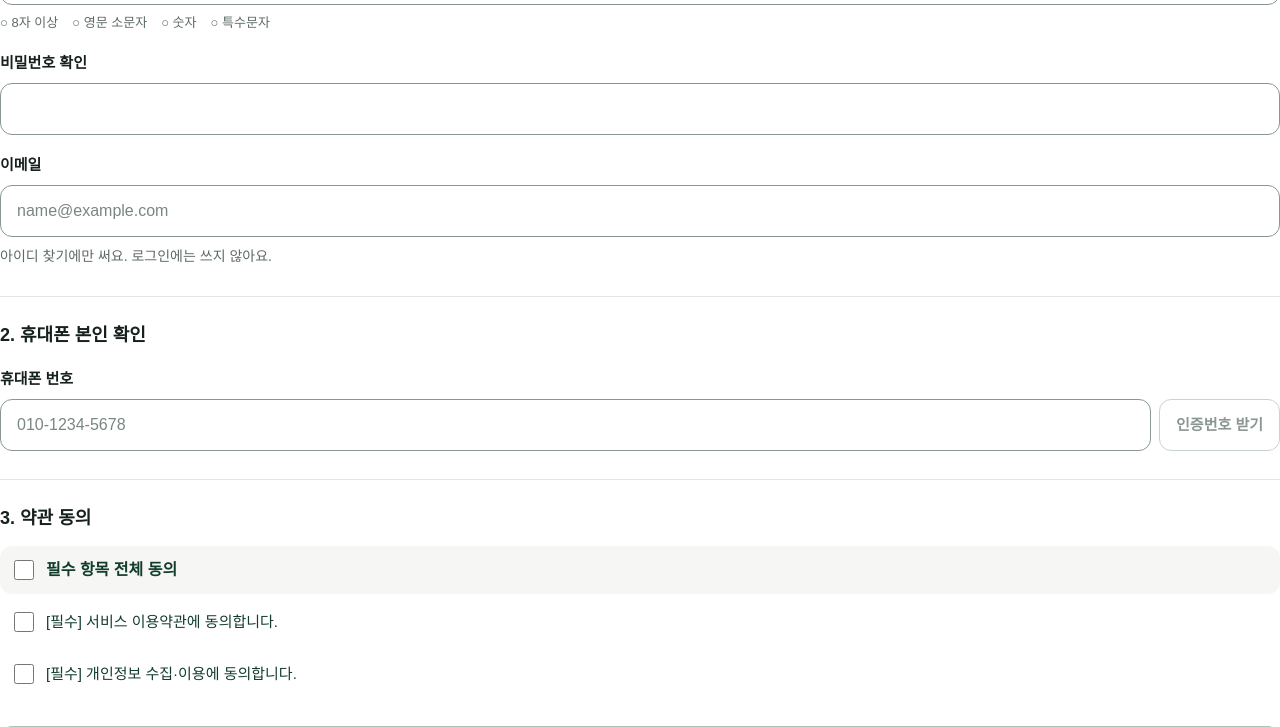
Scenario: PasswordSignupForm › 인증 뒤 휴대폰 번호를 바꾸면 인증 상태를 즉시 무효화한다
The width and height of the screenshot is (1280, 727).
(page scrolled)
Type "01012345678" into the field labelled "휴대폰 번호" at [576, 425], box [17,413,1134,437]
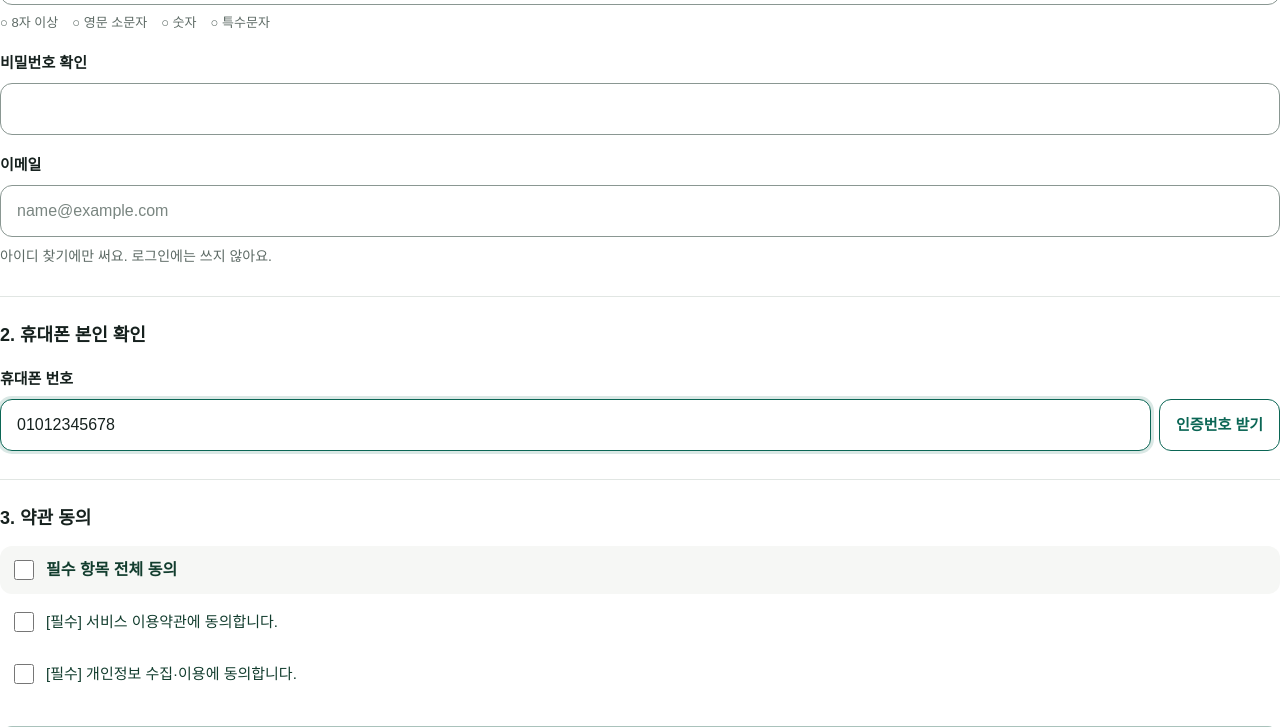
Click the button "인증번호 받기" at [1220, 425], box [1159,399,1279,451]
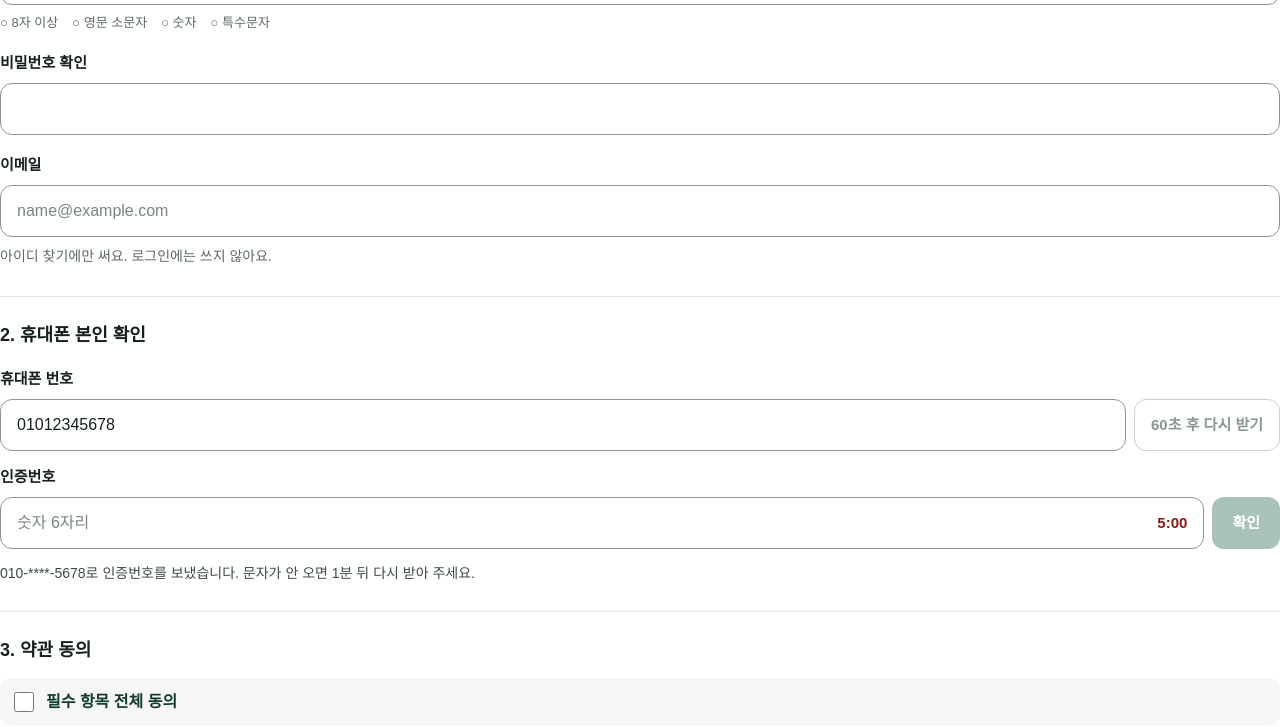
Type "123456" into the field labelled "인증번호" at [587, 523], box [17,511,1157,535]
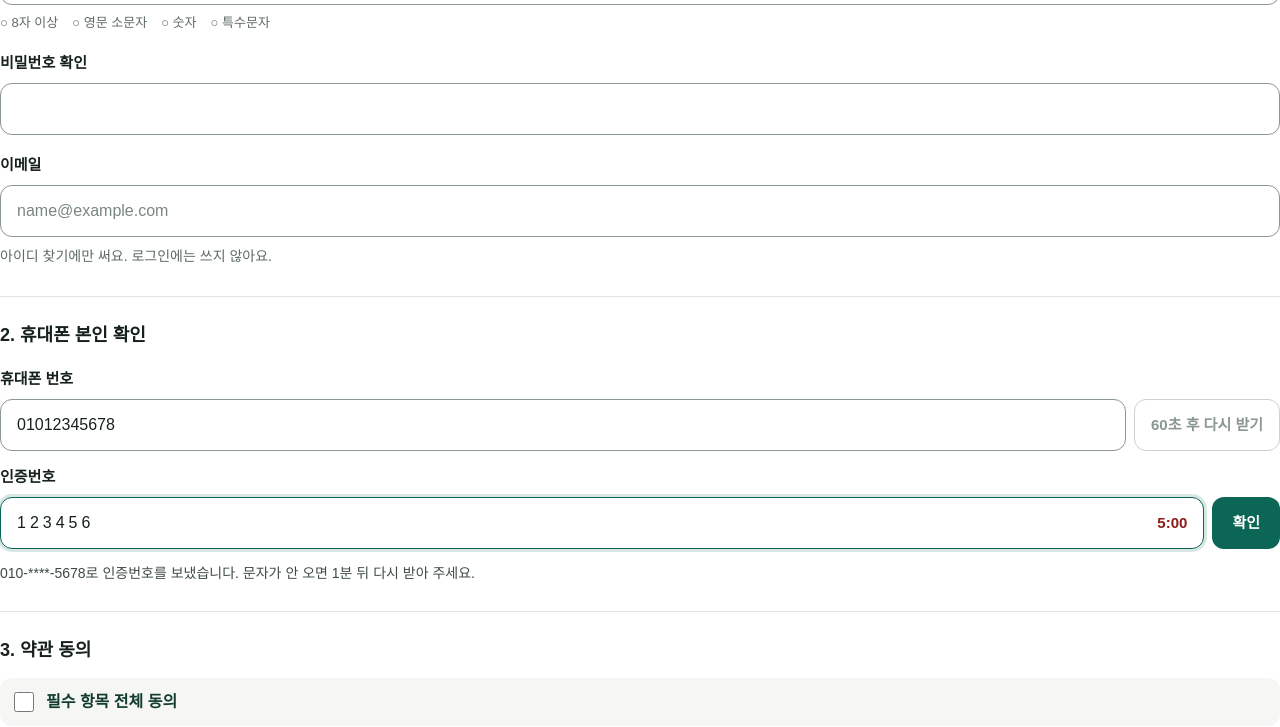
Click the button with aria-label "인증 확인" at [1246, 523], box [1212,497,1279,549]
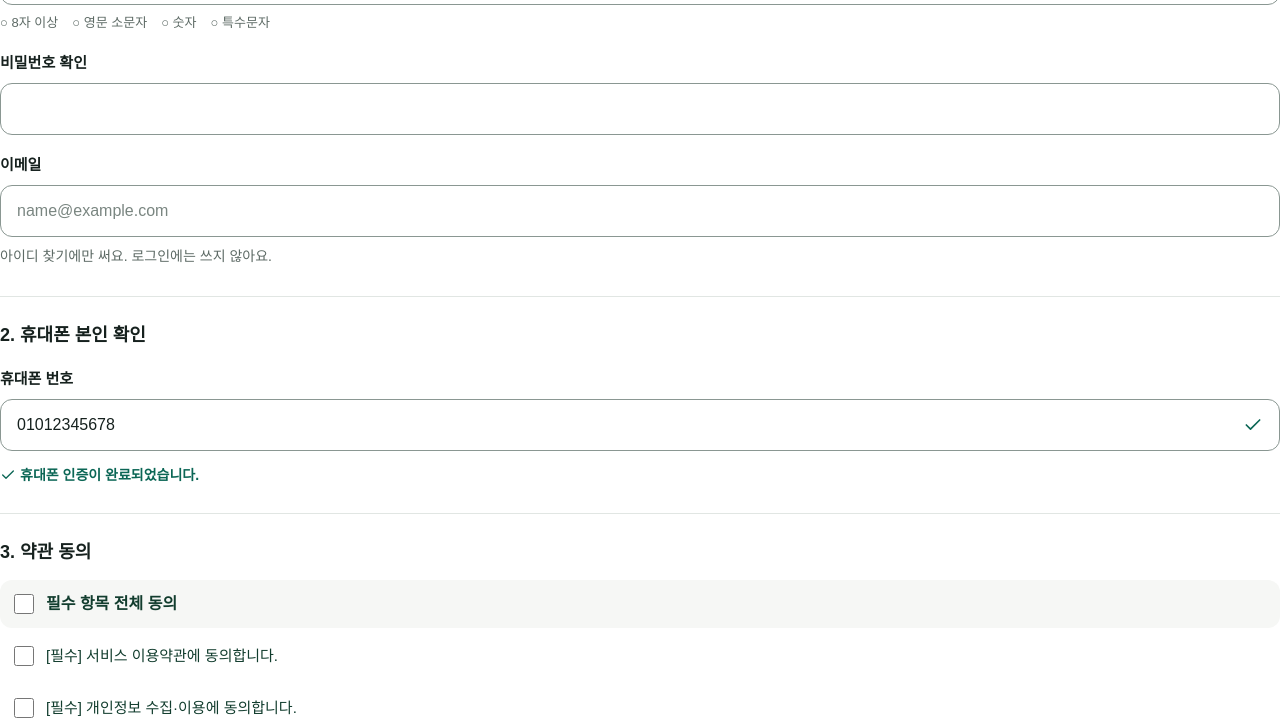
Check: the text "휴대폰 인증이 완료되었습니다." is shown, box [0,467,199,483]
Type "9" into the field labelled "휴대폰 번호" at [630, 425], box [17,413,1243,437]
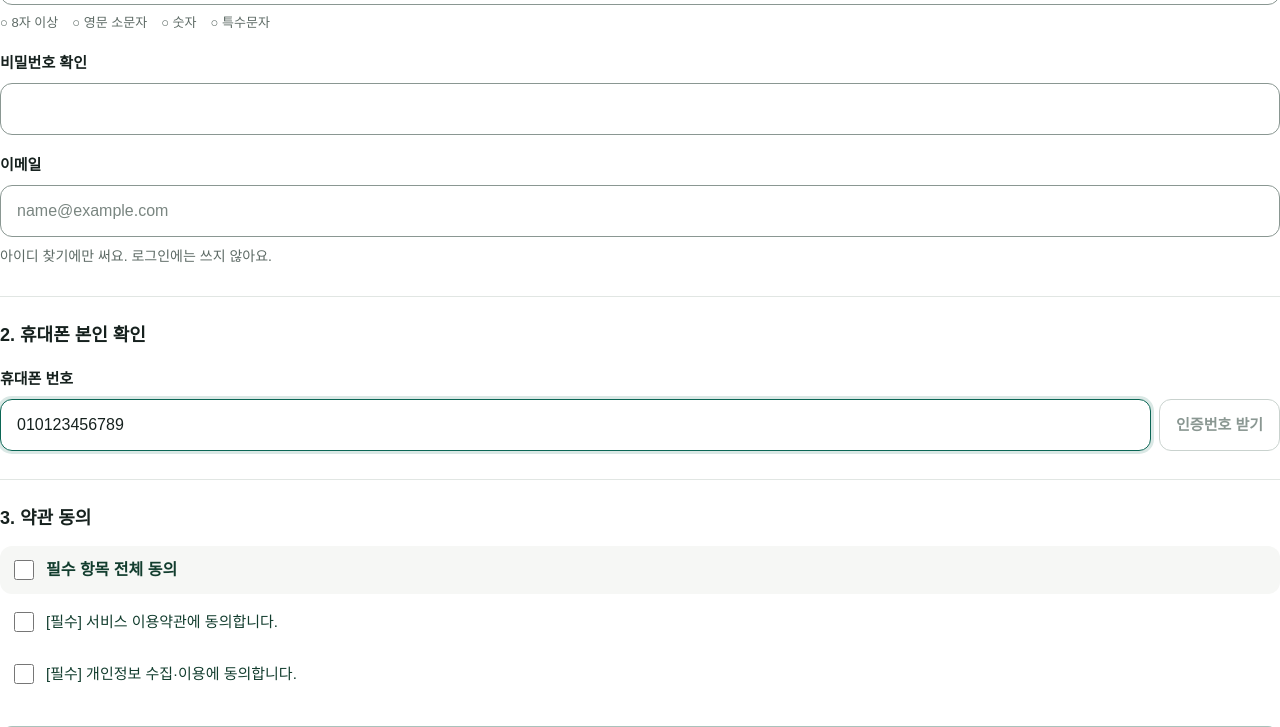
Check: the text "휴대폰 인증이 완료되었습니다." is gone
